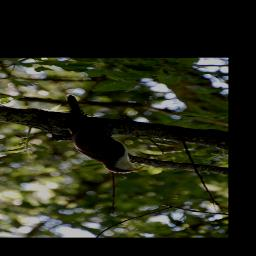Cuckoo: (61, 93, 149, 174)
